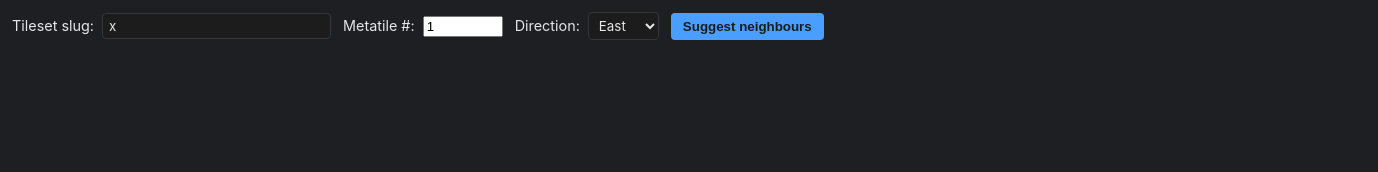
it: TileNeighboursExplorer › surfaces sidecar_offline inline
Click the button "Suggest neighbours" at (747, 26), box [671,12,824,40]
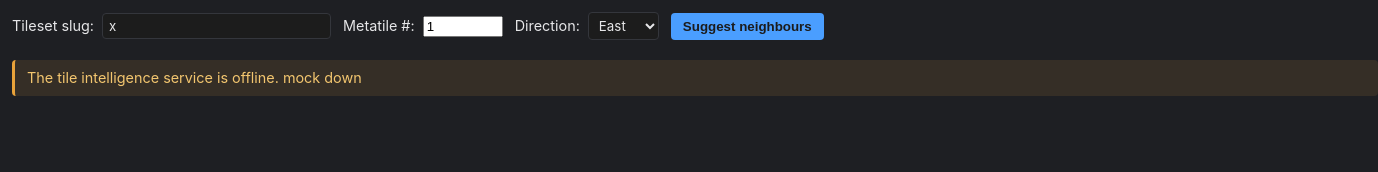
Expected: the text "The tile intelligence service is offline. mock down" is shown, [12,60,1377,96]
